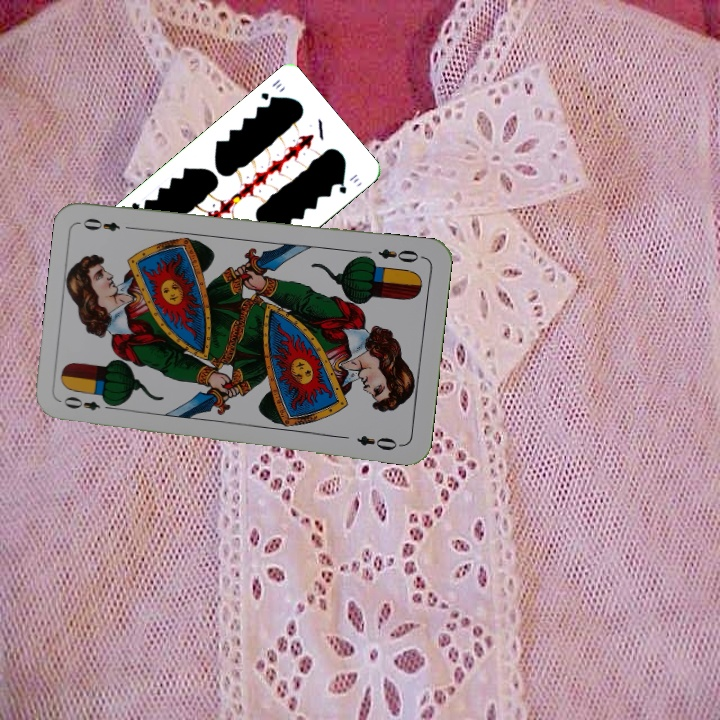EO: (59, 392, 118, 413), (374, 244, 426, 265)
G10: (257, 75, 285, 106)
